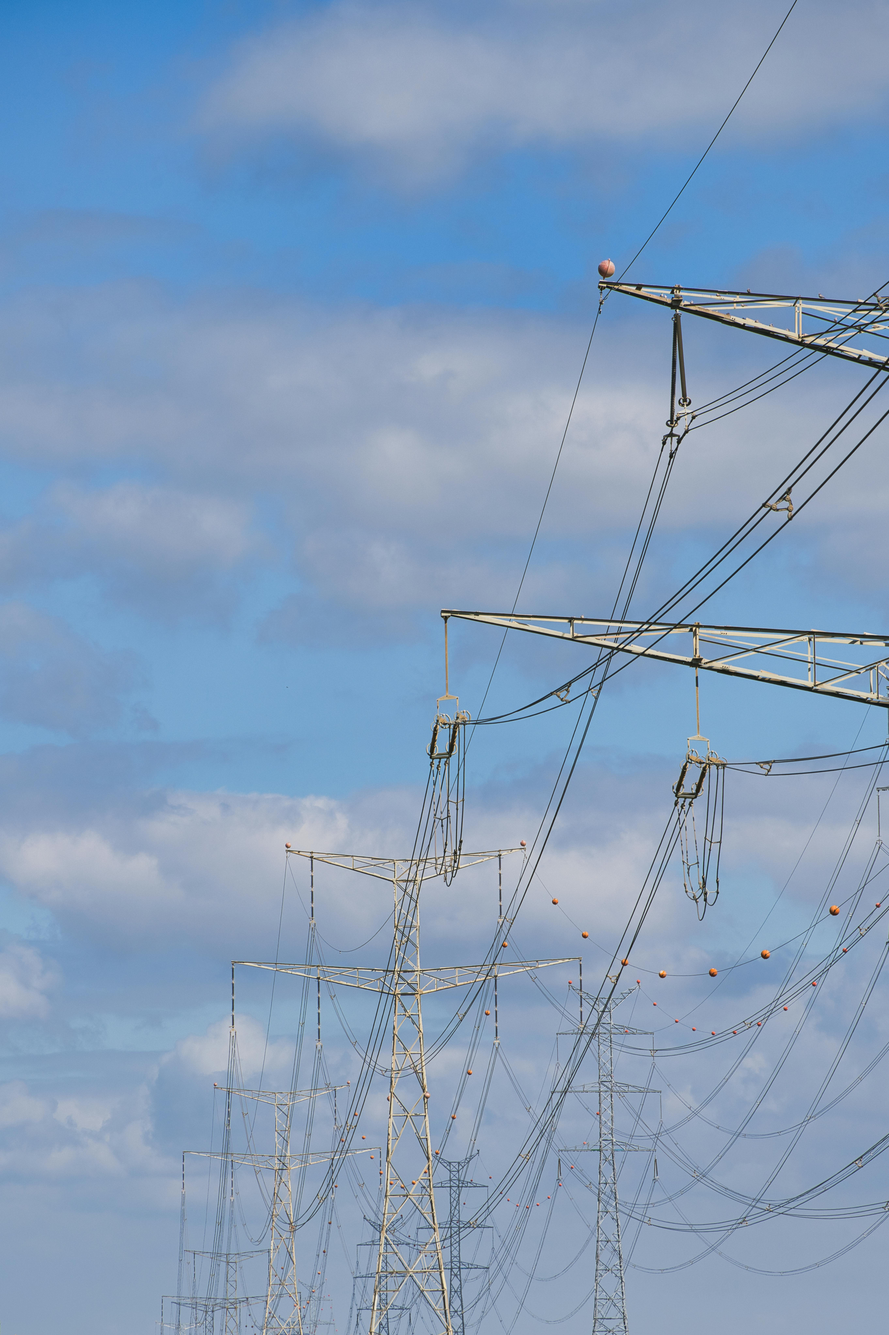insulator: (666, 749, 723, 798), (421, 712, 475, 761)
